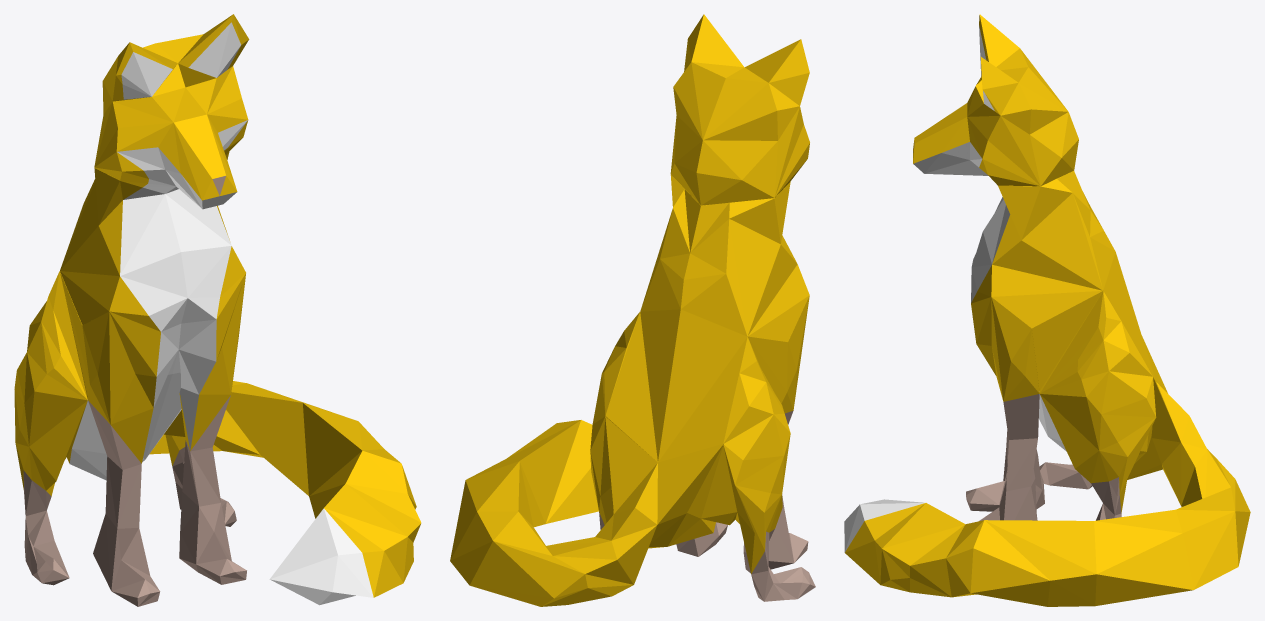
File: Fox.glb
The picture shows the model from 3 angles, left to right: view 1: azimuth 30°, elevation 25°; view 2: azimuth 150°, elevation 25°; view 3: azimuth 270°, elevation 25°; orthographic projection. The views are drawn at different scales.
Parts seen in each view (by area): view 1: Default.2-mat13, Default.2-mat21, Default.2-mat20; view 2: Default.2-mat13, Default.2-mat20; view 3: Default.2-mat13, Default.2-mat20, Default.2-mat21.
Boxes of the visible parts, x1=… form: Default.2-mat13: x1=14, y1=14, x2=421, y2=597; Default.2-mat21: x1=69, y1=22, x2=373, y2=605; Default.2-mat20: x1=23, y1=176, x2=246, y2=606; Default.2-mat13: x1=450, y1=14, x2=809, y2=606; Default.2-mat20: x1=599, y1=410, x2=815, y2=601; Default.2-mat13: x1=845, y1=14, x2=1250, y2=606; Default.2-mat20: x1=913, y1=142, x2=1121, y2=521; Default.2-mat21: x1=844, y1=25, x2=1066, y2=552.
Size of the model in its own units: 0.4188 by 0.6471 by 0.4875.
